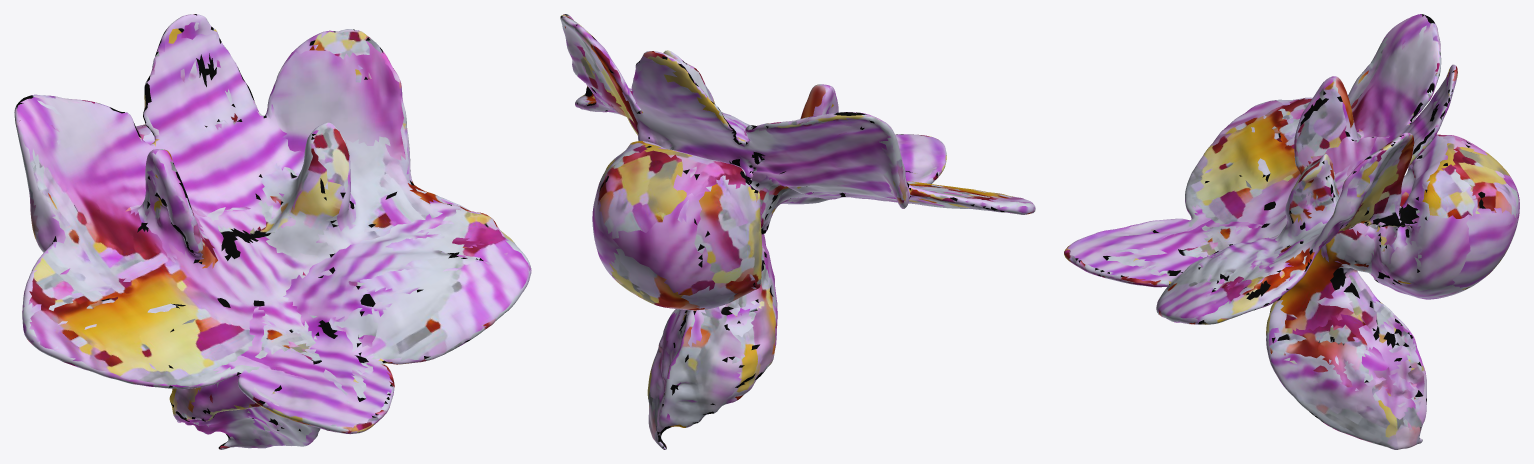
File: RealFlower.fbx
3 views of the same model, side by side, from view 1: azimuth 30°, elevation 25°; view 2: azimuth 150°, elevation 25°; view 3: azimuth 270°, elevation 25° (orthographic). The views are drawn at different scales.
Parts seen in each view (by area): view 1: world; view 2: world; view 3: world.
Part boxes in pixels (x1,y1,x2,y2): world: (14, 14, 531, 449); world: (560, 14, 1035, 449); world: (1064, 14, 1519, 449).
Size of the model in its own units: 55.61 by 47.65 by 53.39.
1 material, 1 textured.
